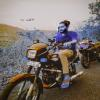motorcycles: (2, 41, 64, 100), (78, 39, 100, 68)
